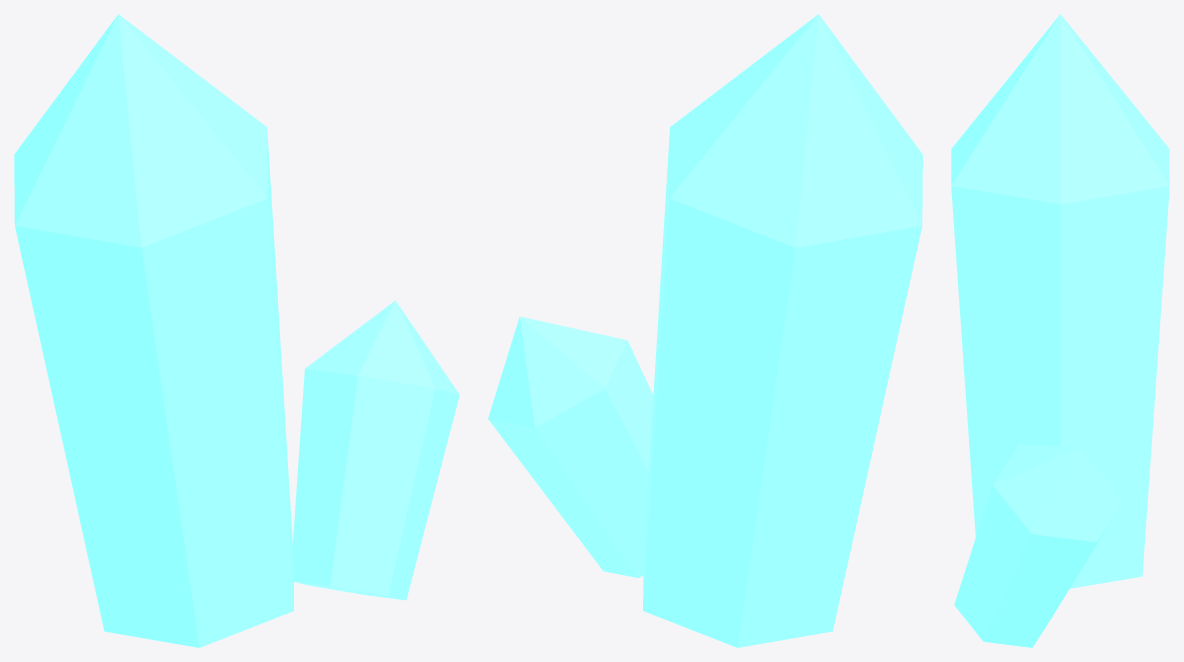
Rendered from Rock_Crystal_Shard_A.fbx.
3 renders of one model, left to right at view 1: azimuth 30°, elevation 25°; view 2: azimuth 150°, elevation 25°; view 3: azimuth 270°, elevation 25°, orthographic. The views are drawn at different scales.
Visible parts, largest first — view 1: Rock_Crystal_Shard_A; view 2: Rock_Crystal_Shard_A; view 3: Rock_Crystal_Shard_A.
Part boxes in pixels (bbox=[...]): Rock_Crystal_Shard_A: bbox=[14, 14, 459, 647]; Rock_Crystal_Shard_A: bbox=[488, 14, 922, 647]; Rock_Crystal_Shard_A: bbox=[951, 14, 1169, 647].
Bounding box in the file's own units: 0.3697 × 0.5163 × 0.1905.
